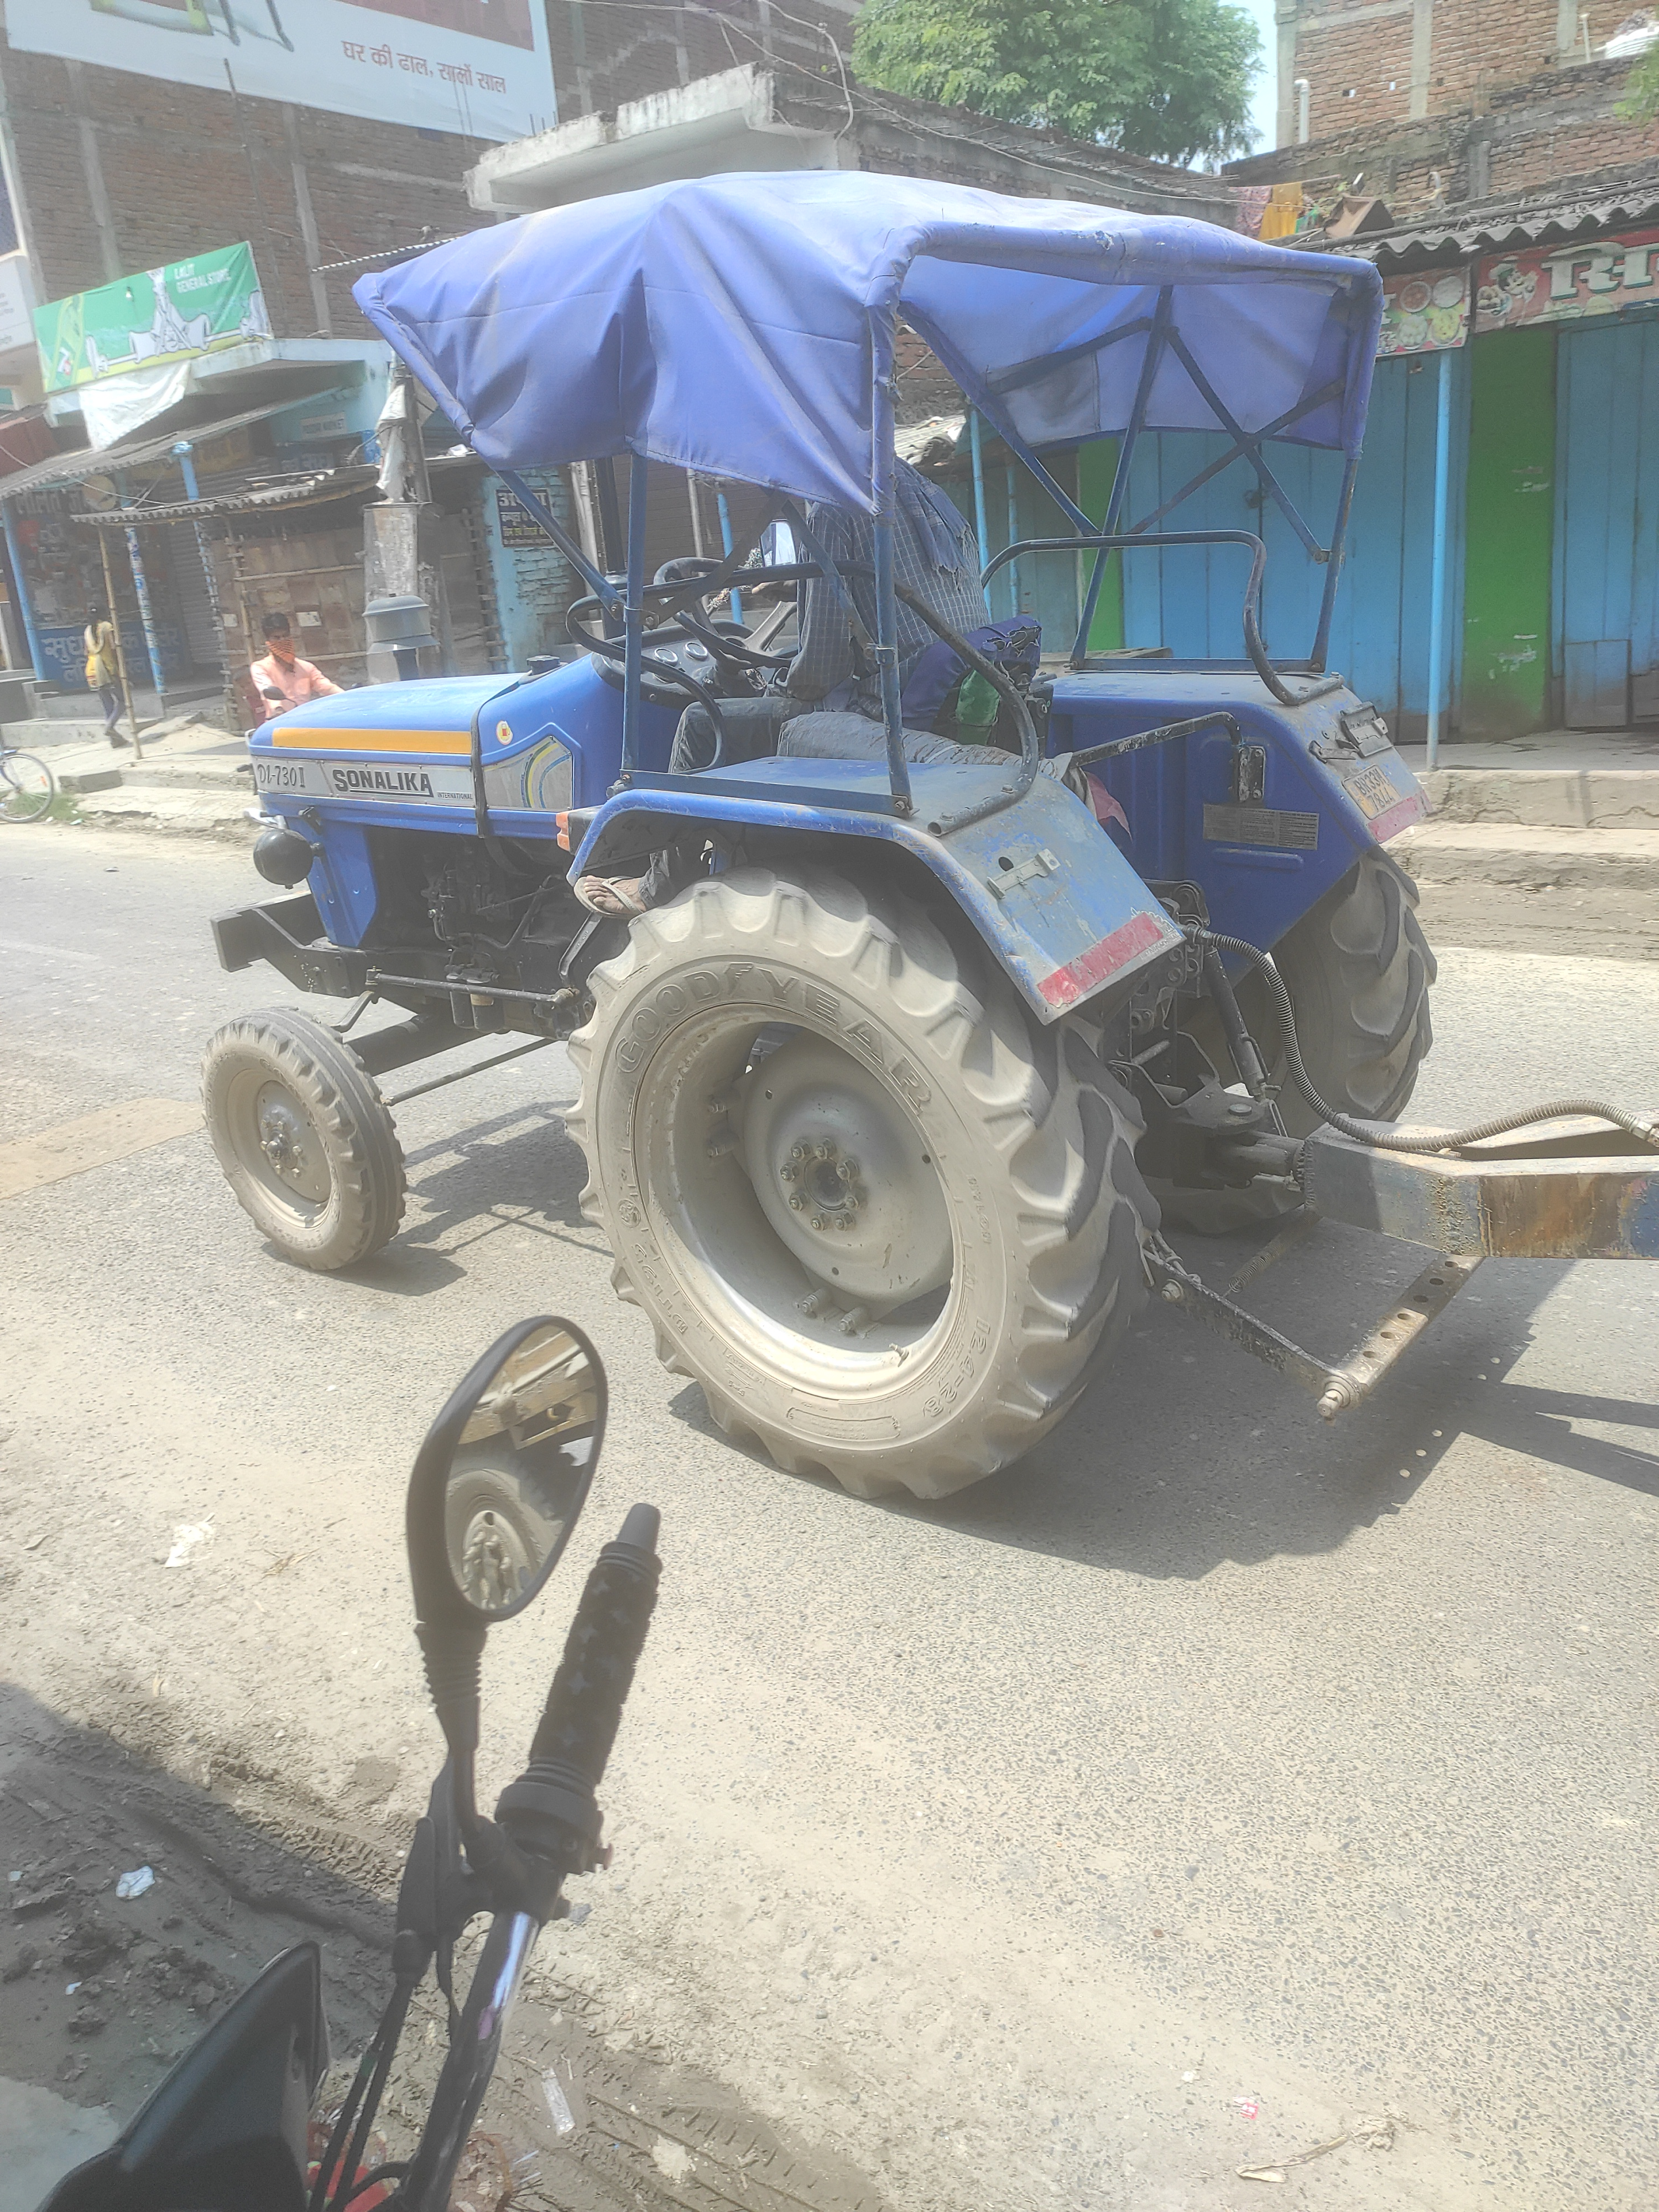truck: (193, 158, 1659, 1515)
